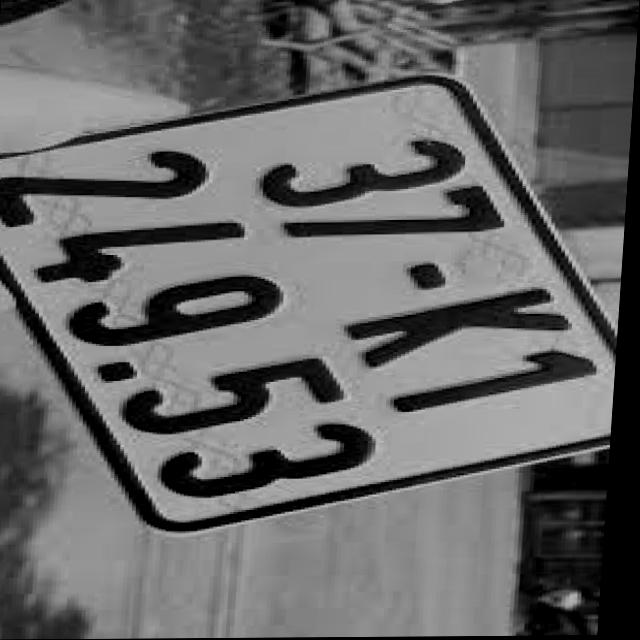a: (0, 80, 569, 554)
bien so: (0, 78, 569, 539)
